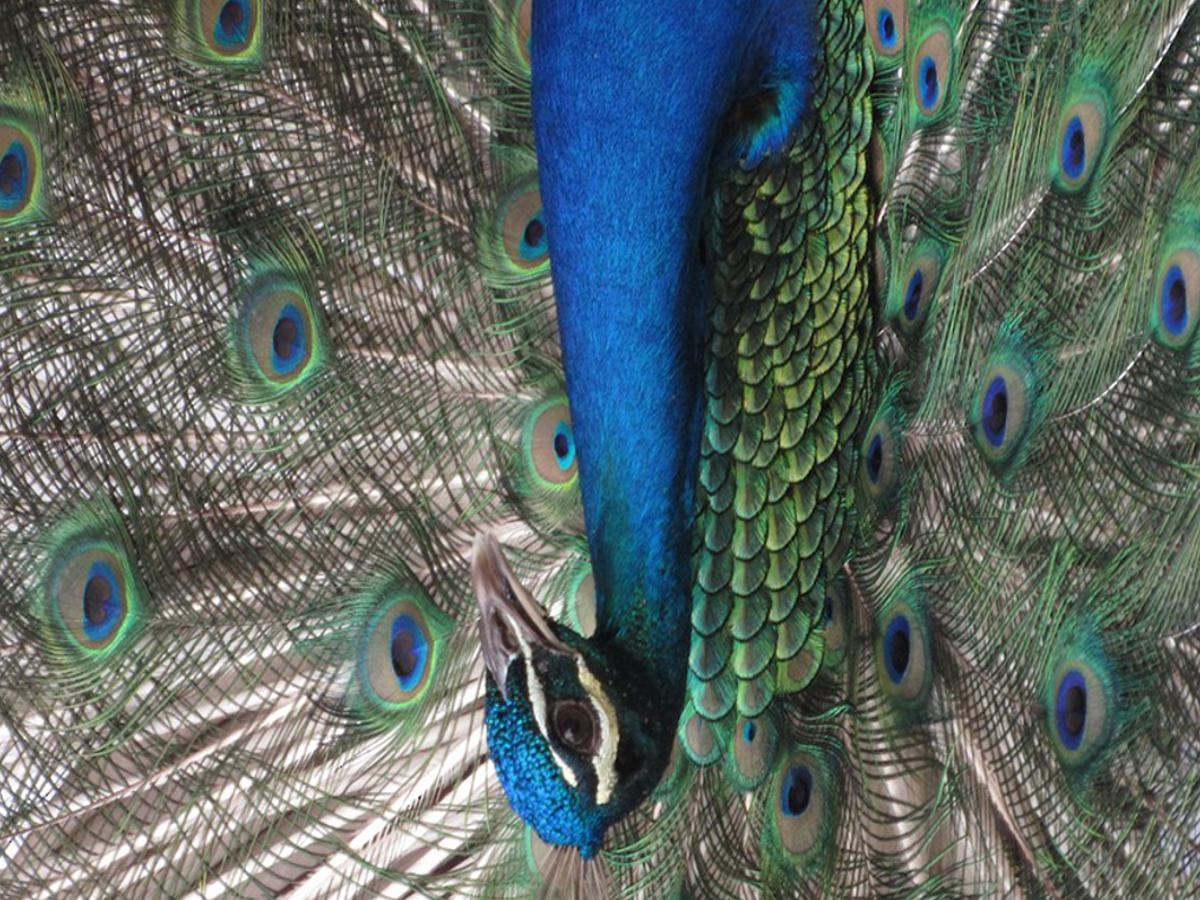peacock: (19, 3, 1200, 900)
